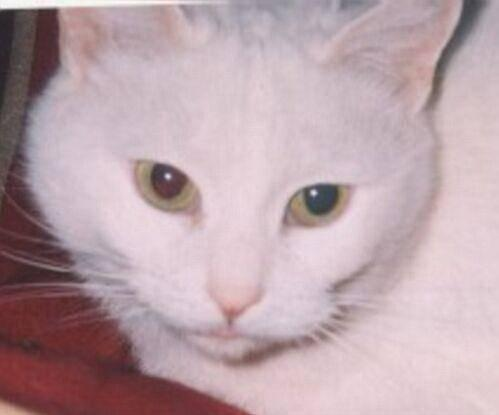cat: (25, 0, 498, 414)
